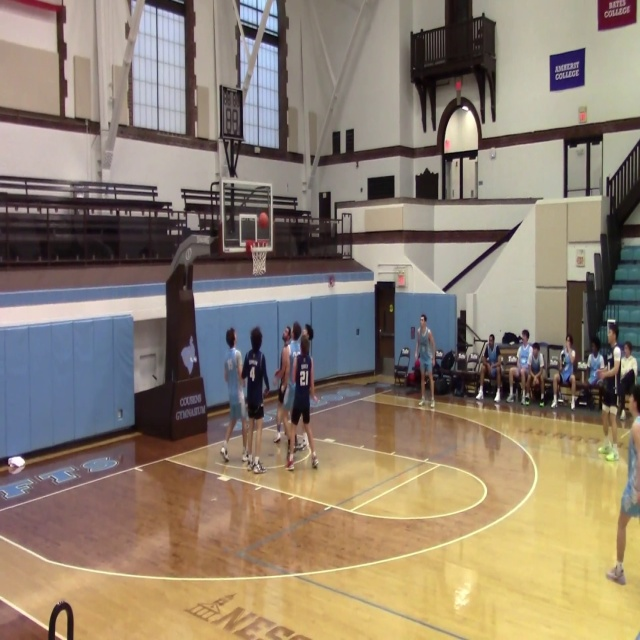Basketball: (7, 456, 25, 474), (258, 212, 269, 228), (606, 452, 617, 461)
